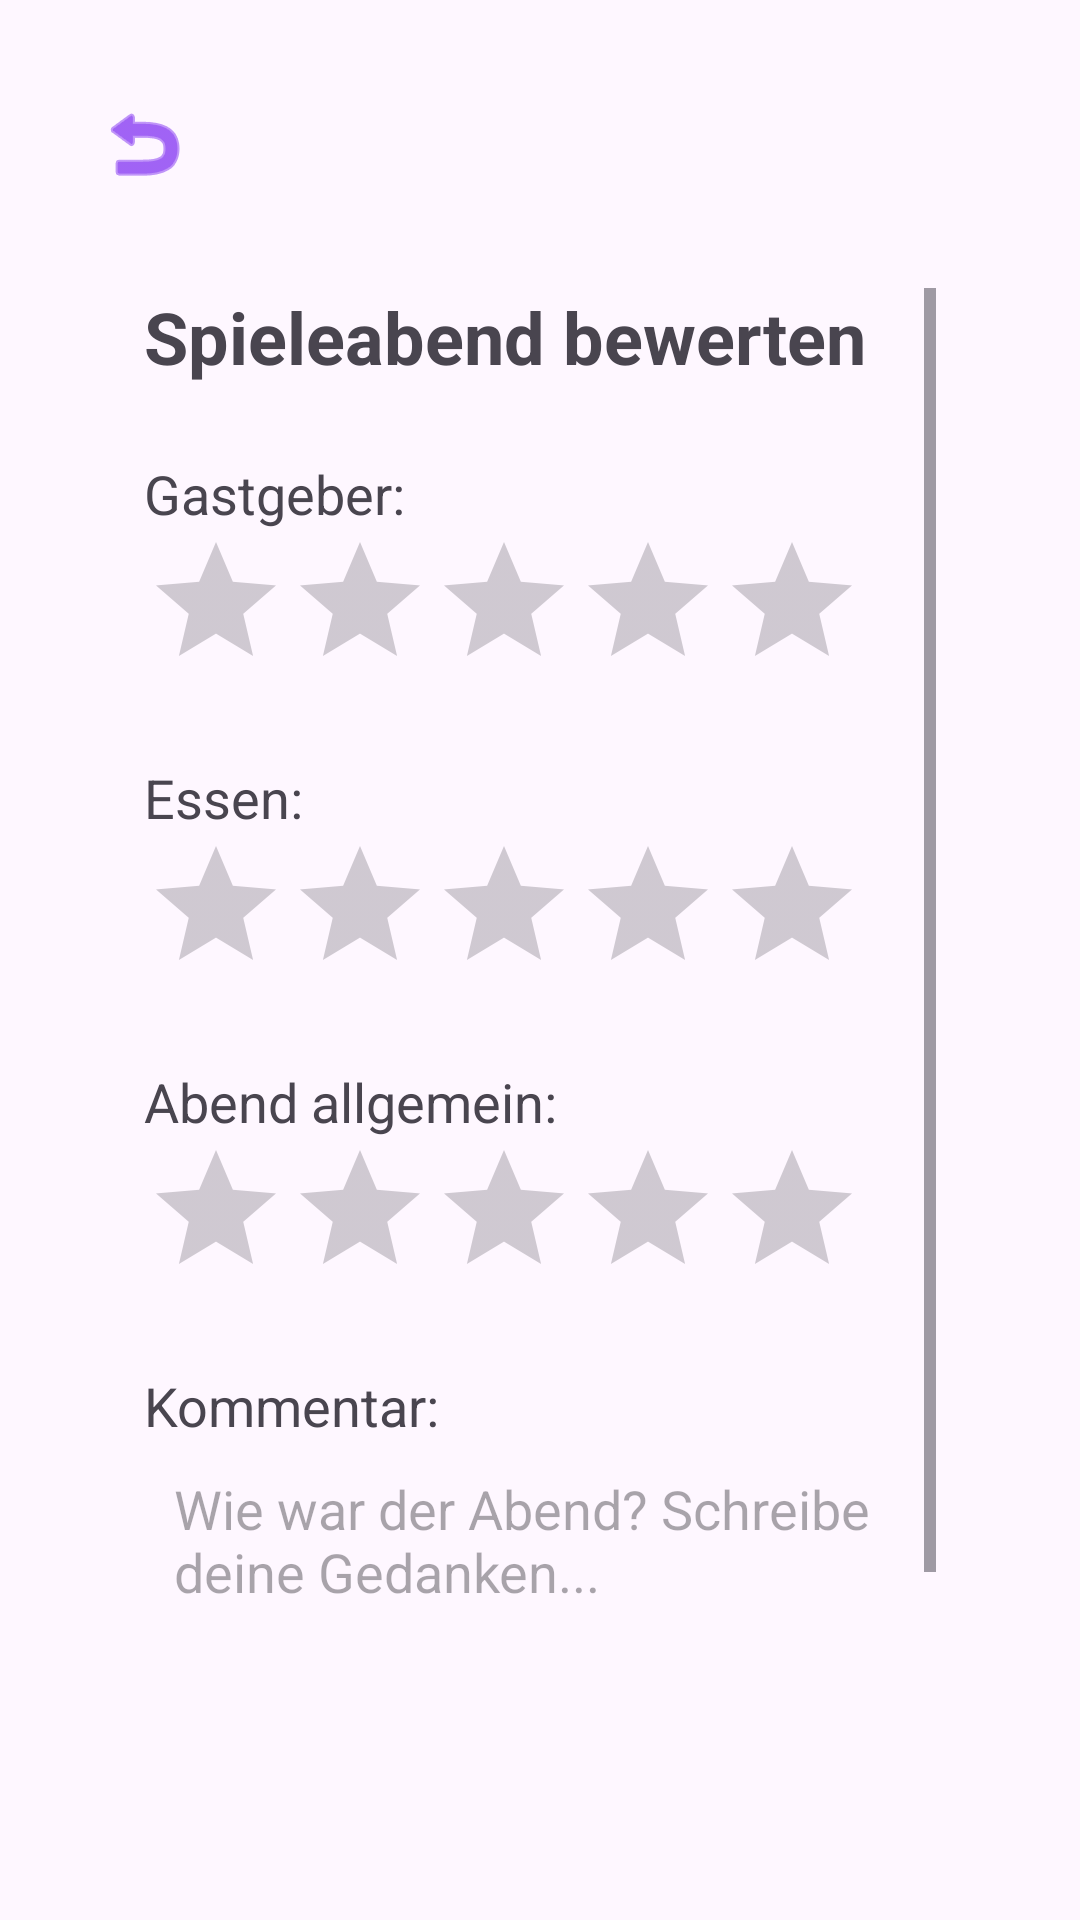

Where to tap for icons on this 1080 × 1920 app screen, as [x,y]:
Zurück: [145,144]
